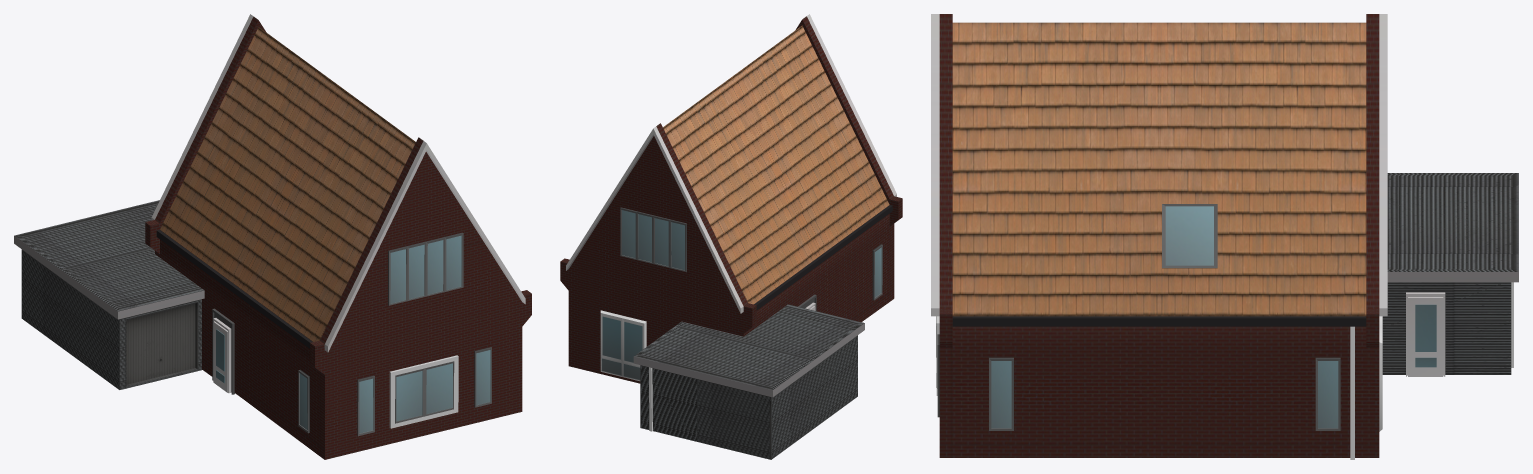
File: Woning Hameie type 5.fbx
The picture shows the model from 3 angles, left to right: view 1: azimuth 30°, elevation 25°; view 2: azimuth 150°, elevation 25°; view 3: azimuth 270°, elevation 25°; orthographic projection. The views are drawn at different scales.
Parts seen in each view (by area): view 1: Hameie_type_5; view 2: Hameie_type_5; view 3: Hameie_type_5.
Boxes of the visible parts, <box> form: Hameie_type_5: <box>14,14,531,459</box>; Hameie_type_5: <box>560,14,902,459</box>; Hameie_type_5: <box>931,14,1518,459</box>.
Bounding box in the file's own units: 10.72 × 10.29 × 14.35.
Materials: 1 (1 with a texture image).
